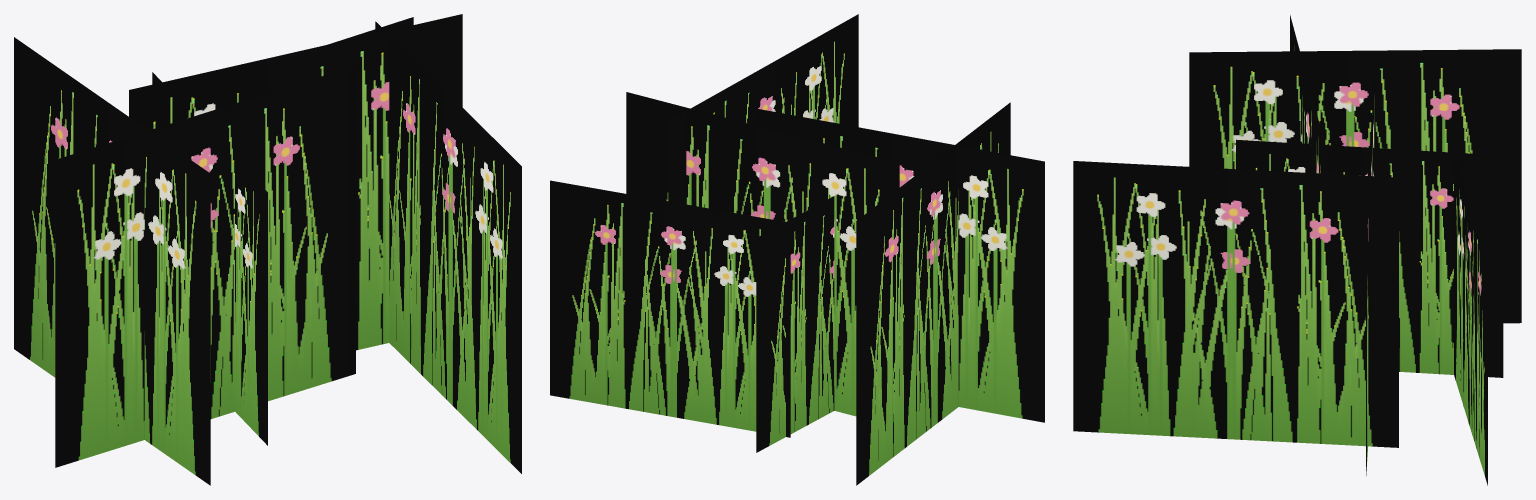
File: plant_flowers_pink.glb
3 renders of one model, left to right at view 1: azimuth 30°, elevation 25°; view 2: azimuth 150°, elevation 25°; view 3: azimuth 270°, elevation 25°, orthographic. The views are drawn at different scales.
Parts seen in each view (by area): view 1: flowers; view 2: flowers; view 3: flowers.
Part boxes in pixels (x1,y1,x2,y2): flowers: (14, 14, 521, 485); flowers: (550, 14, 1044, 485); flowers: (1073, 15, 1521, 485).
Bounding box in the file's own units: 0.8443 × 0.5349 × 0.7932.
1 material, 1 textured.
